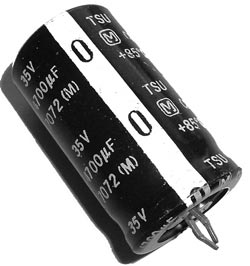capacitor: (14, 4, 232, 251)
